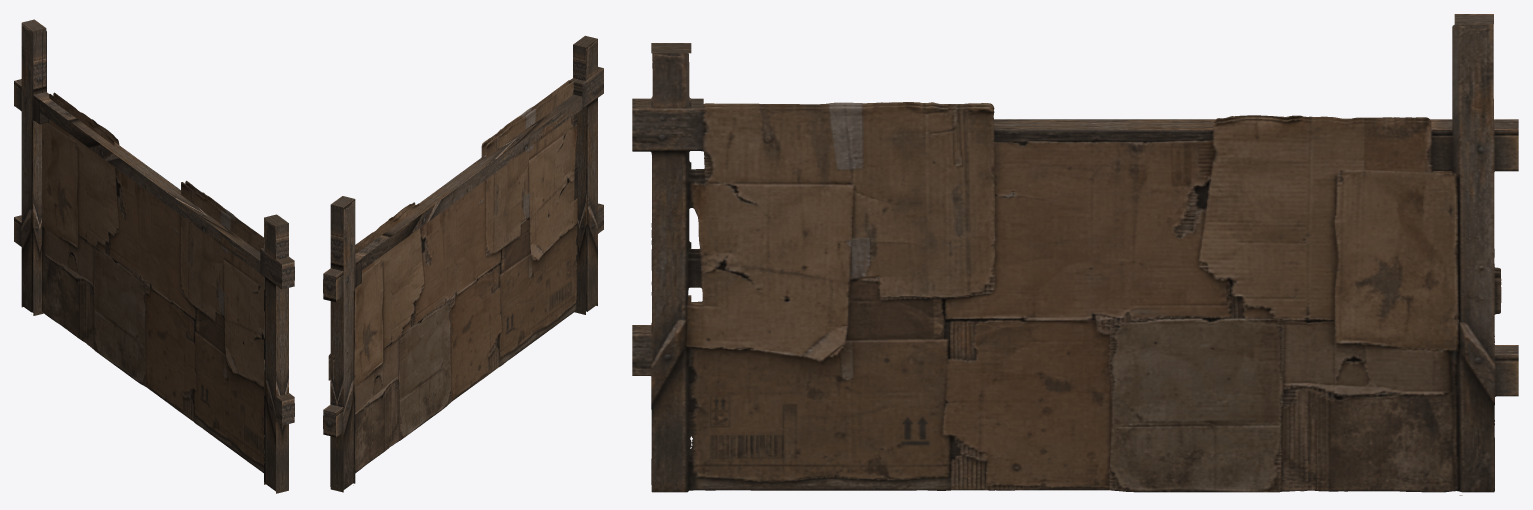
The model's file is CardboardWall3D.fbx.
3 views of the same model, side by side, from view 1: azimuth 30°, elevation 25°; view 2: azimuth 150°, elevation 25°; view 3: azimuth 270°, elevation 25° (orthographic). The views are drawn at different scales.
Visible parts, largest first — view 1: Cube; view 2: Cube; view 3: Cube.
Part boxes in pixels (box(x1,y1,x2,y2)): Cube: box(14, 19, 294, 493); Cube: box(323, 35, 603, 492); Cube: box(632, 14, 1518, 495).
Size of the model in its own units: 0.1509 by 3.17 by 5.4.
Materials: 1 (1 with a texture image).
